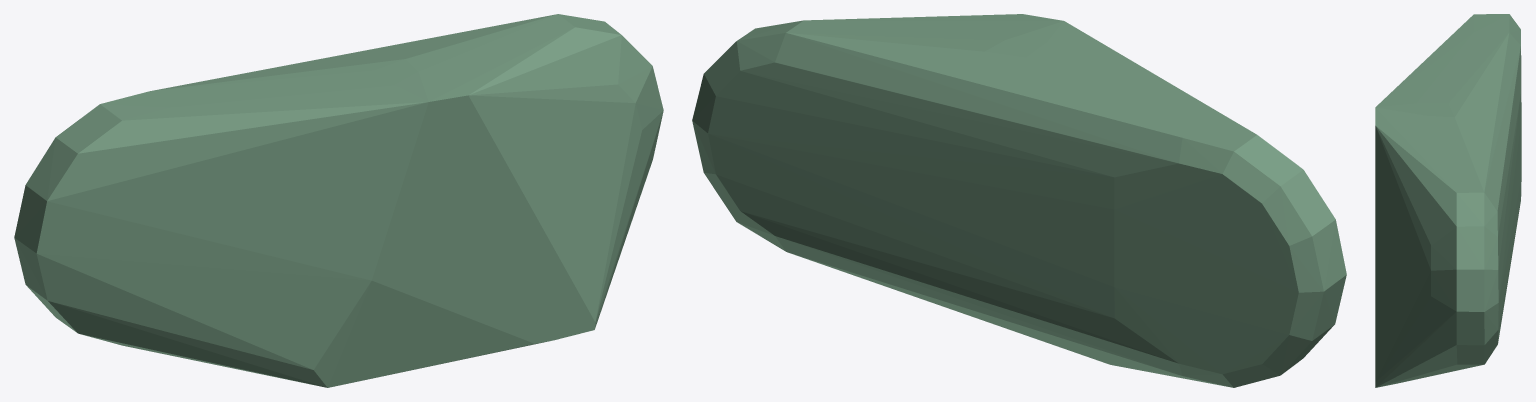
3 renders of one model, left to right at view 1: azimuth 30°, elevation 25°; view 2: azimuth 150°, elevation 25°; view 3: azimuth 270°, elevation 25°, orthographic. The views are drawn at different scales.
Size of the model in its own units: 0.0335 by 0.014 by 0.00856.
